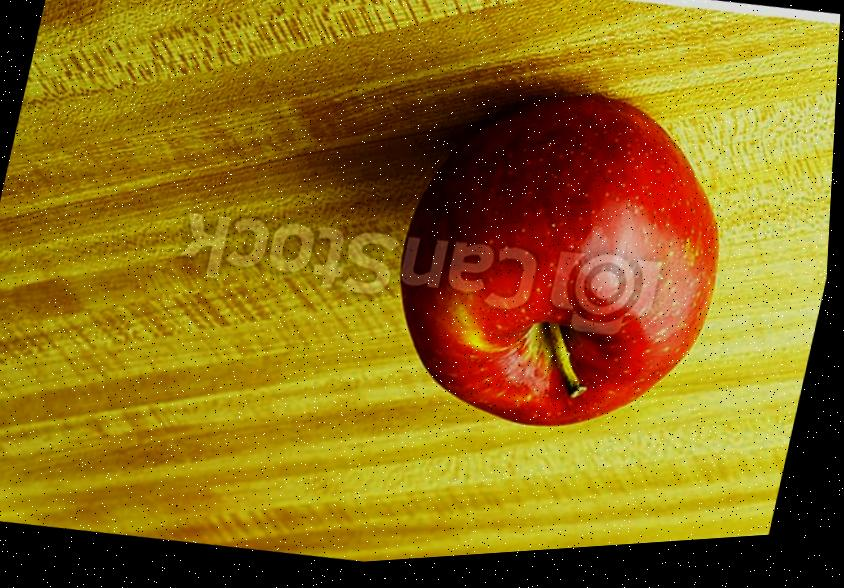HEALTHY: (356, 61, 763, 487)
